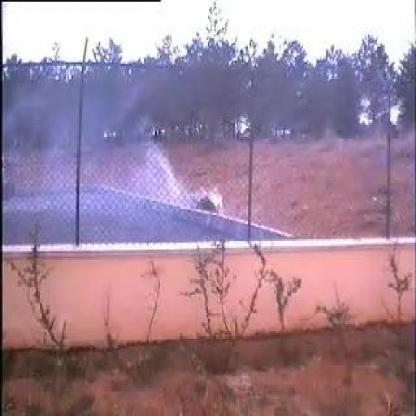-: (9, 85, 173, 237)
